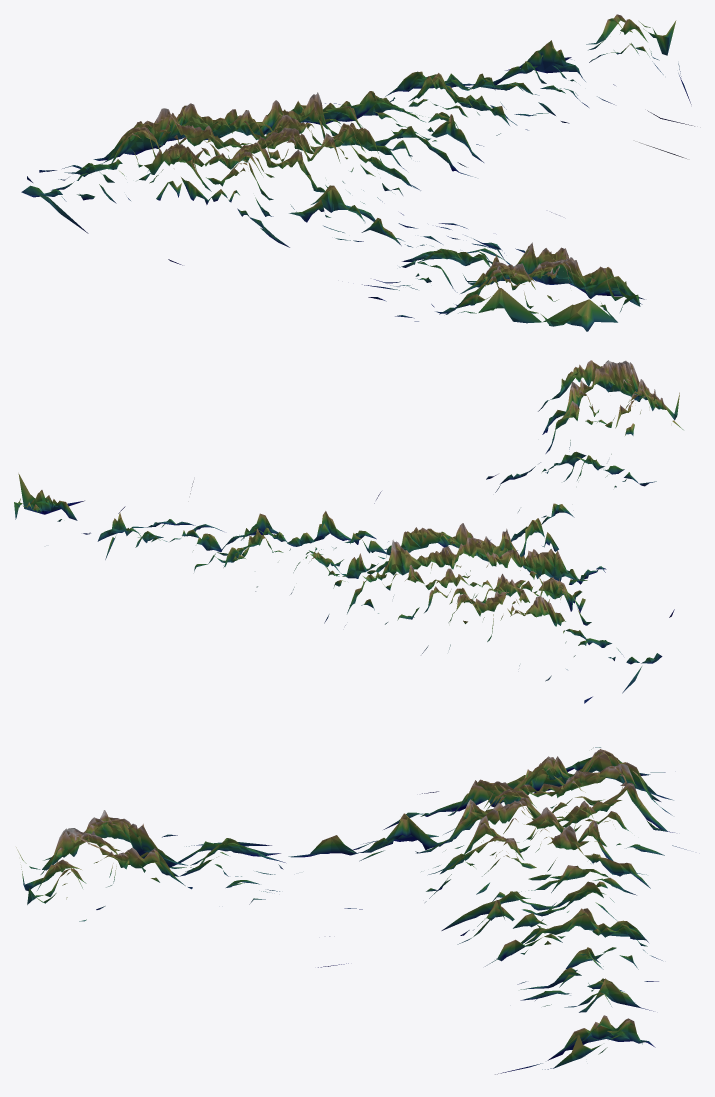
Rendered from pca5_island.gltf.
3 views of the same model, one above another, from view 1: azimuth 30°, elevation 25°; view 2: azimuth 150°, elevation 25°; view 3: azimuth 270°, elevation 25° (orthographic). The views are drawn at different scales.
Visible parts, largest first — view 1: Renderer Node; view 2: Renderer Node; view 3: Renderer Node.
Boxes of the visible parts, x1,y1,x2,y2 form: Renderer Node: (21, 14, 694, 331); Renderer Node: (14, 360, 683, 703); Renderer Node: (16, 747, 686, 1074).
Bounding box in the file's own units: 1 × 0.1095 × 0.8881.
Materials: 1 (1 with a texture image).
